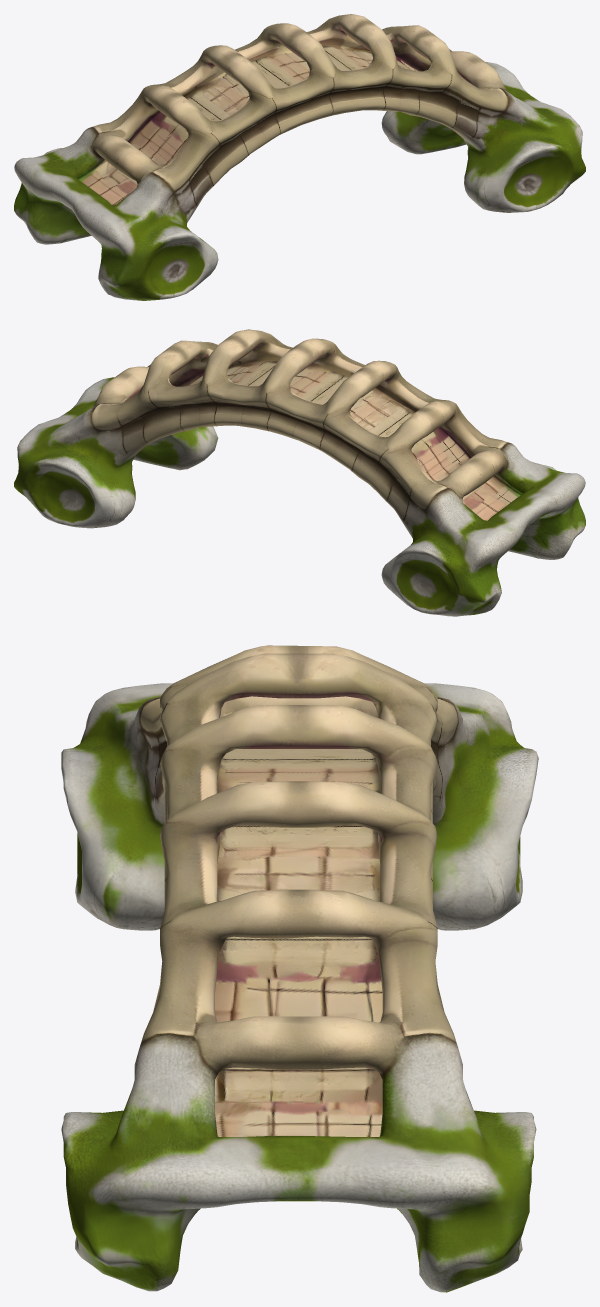
Rendered from bone_bridge.glb.
The picture shows the model from 3 angles, top to bottom: view 1: azimuth 30°, elevation 25°; view 2: azimuth 150°, elevation 25°; view 3: azimuth 270°, elevation 25°; orthographic projection. The views are drawn at different scales.
Size of the model in its own units: 1.91 by 0.7084 by 0.8141.
1 material, 1 textured.
